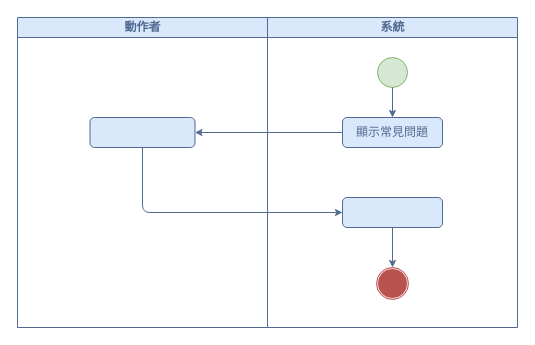
Some shapes in this 535 by 345 pixel diagram are drawn without their labels. Each missing label, with the centre of its shape:
顯示詳細內容: pixel 392 212
點選任一條目: pixel 142 132
